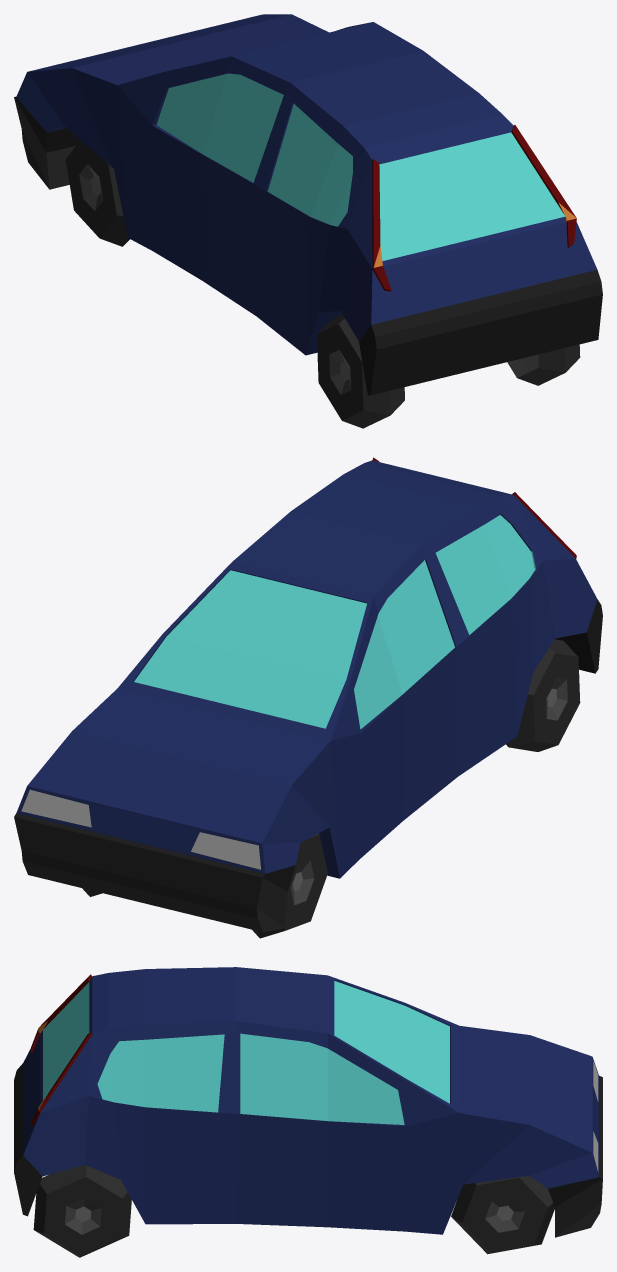
Rendered from punto.fbx.
3 renders of one model, top to bottom at view 1: azimuth 30°, elevation 25°; view 2: azimuth 150°, elevation 25°; view 3: azimuth 270°, elevation 25°, orthographic. The views are drawn at different scales.
Visible parts, largest first — view 1: Cube; view 2: Cube; view 3: Cube.
Part boxes in pixels (x1,y1,x2,y2): Cube: [14, 14, 602, 428]; Cube: [14, 457, 602, 938]; Cube: [14, 967, 602, 1257].
Bounding box in the file's own units: 454 × 194 × 186.
